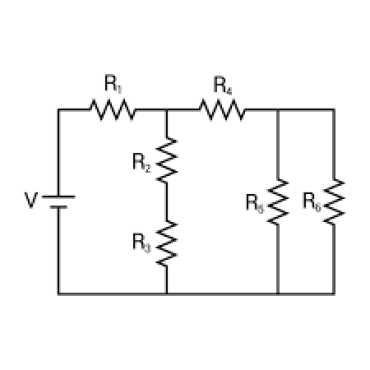Resistor: (244, 176, 291, 232), (132, 219, 179, 273), (198, 74, 246, 125), (88, 74, 137, 123), (301, 178, 347, 230), (132, 136, 178, 185)
Voltage Source: (23, 188, 77, 219)
